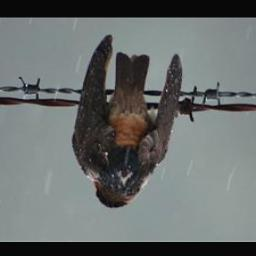Swallow: (71, 33, 184, 210)
